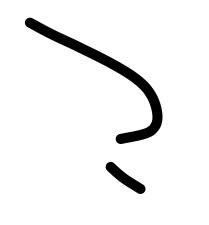b: (16, 5, 102, 86)
